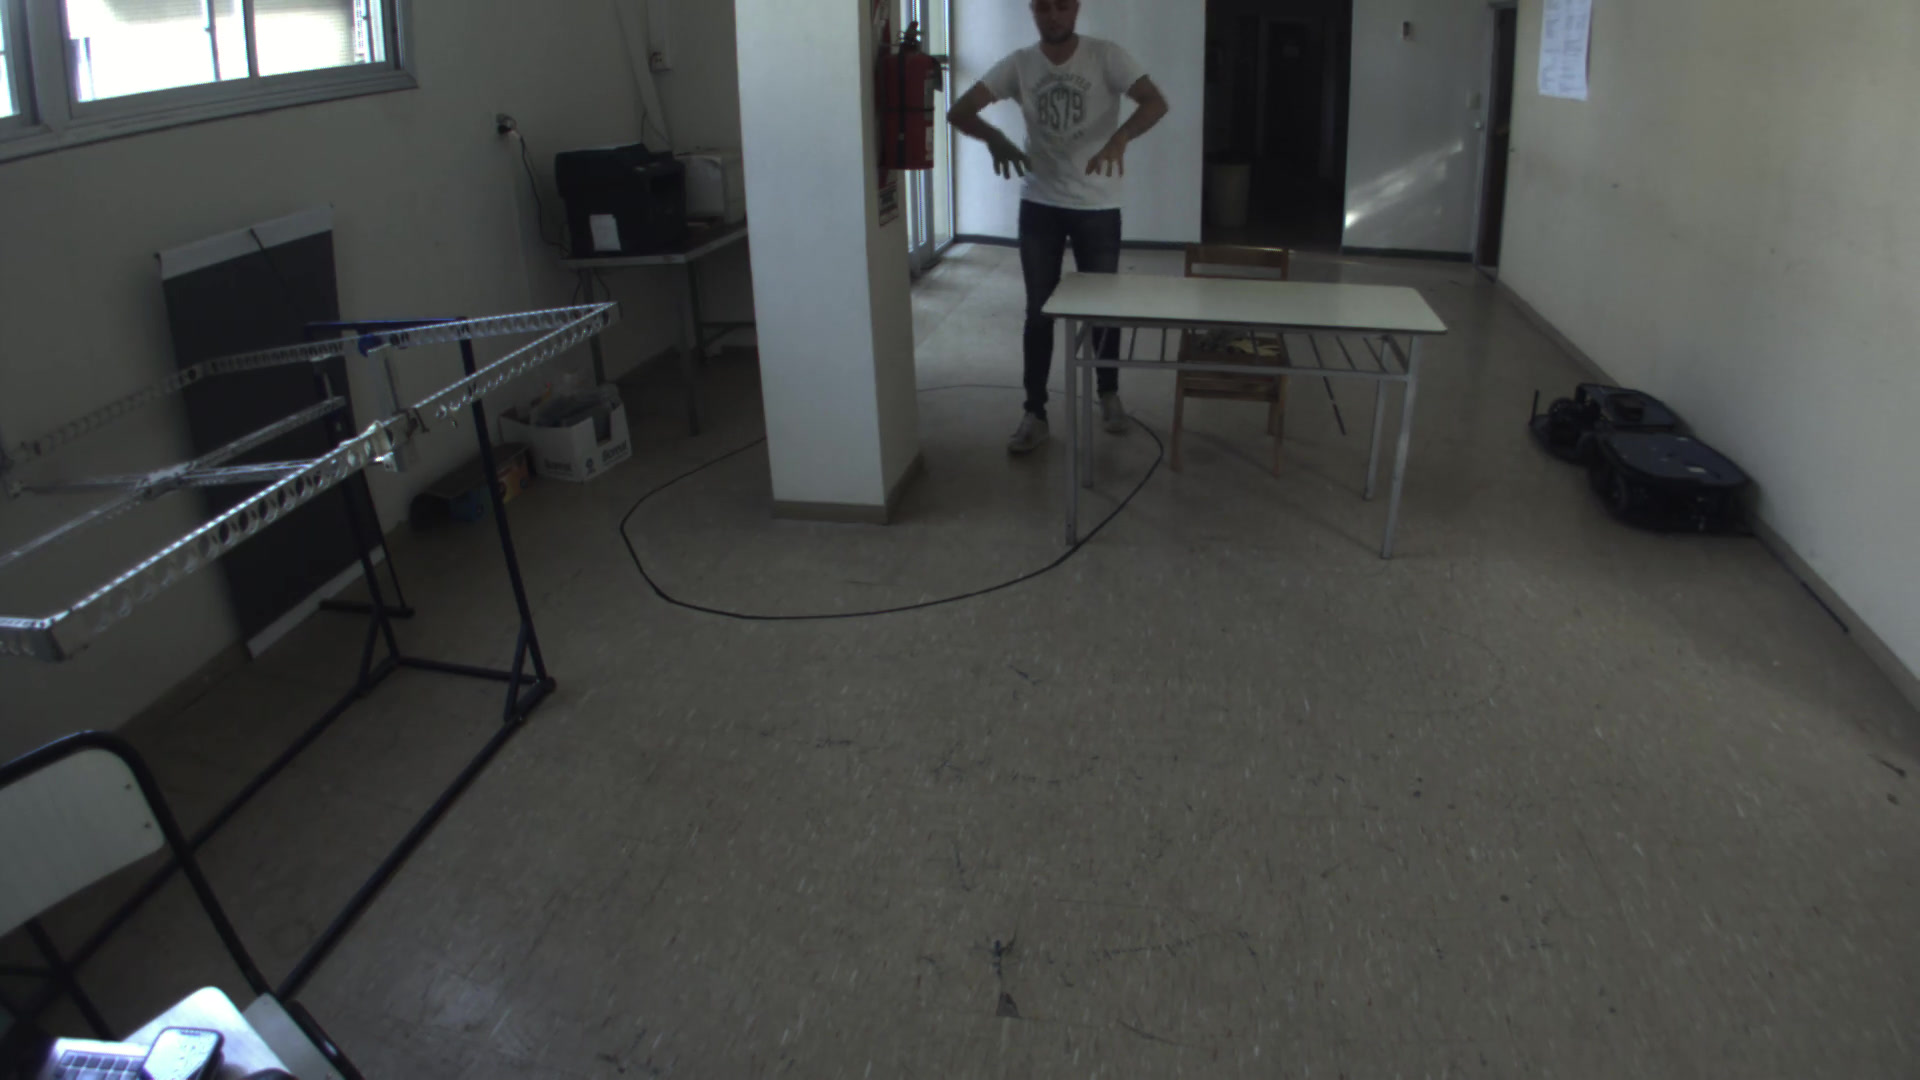hand: (1069, 132, 1135, 193), (986, 124, 1039, 181)
